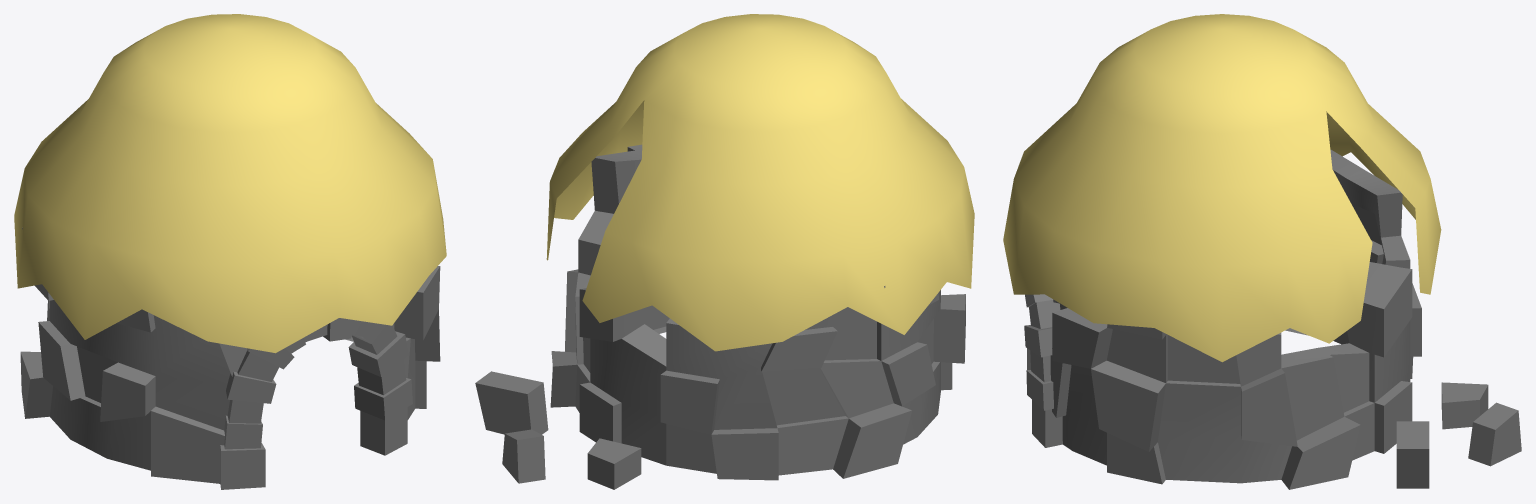
File: Cabaña_Destruida.fbx
3 renders of one model, left to right at view 1: azimuth 30°, elevation 25°; view 2: azimuth 150°, elevation 25°; view 3: azimuth 270°, elevation 25°, orthographic.
Parts seen in each view (by area): view 1: Techo, Box001; view 2: Techo, Box001; view 3: Techo, Box001.
Boxes of the visible parts, x1,y1,x2,y2 form: Techo: [14, 14, 446, 353]; Box001: [20, 227, 440, 489]; Techo: [546, 14, 974, 351]; Box001: [475, 144, 965, 489]; Techo: [1003, 14, 1441, 362]; Box001: [1024, 149, 1521, 489].
Size of the model in its own units: 3.24 by 3.06 by 3.84.
